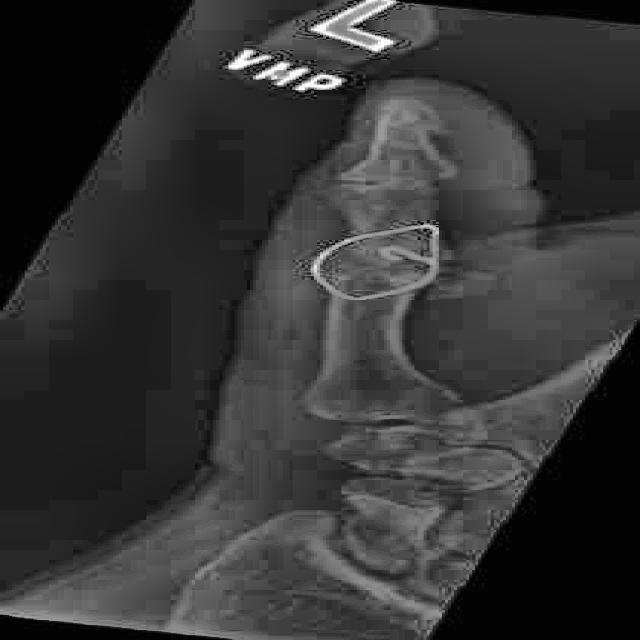fingers positive: (316, 234, 481, 321), (341, 90, 475, 148)
